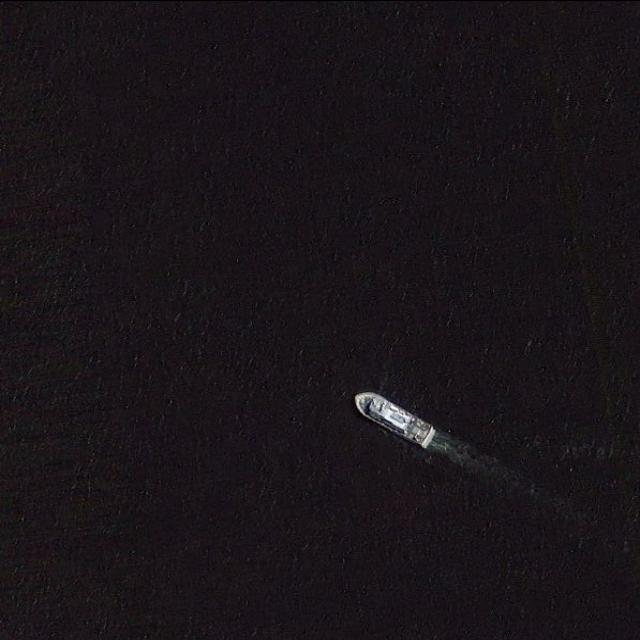ship: (350, 387, 438, 448)
